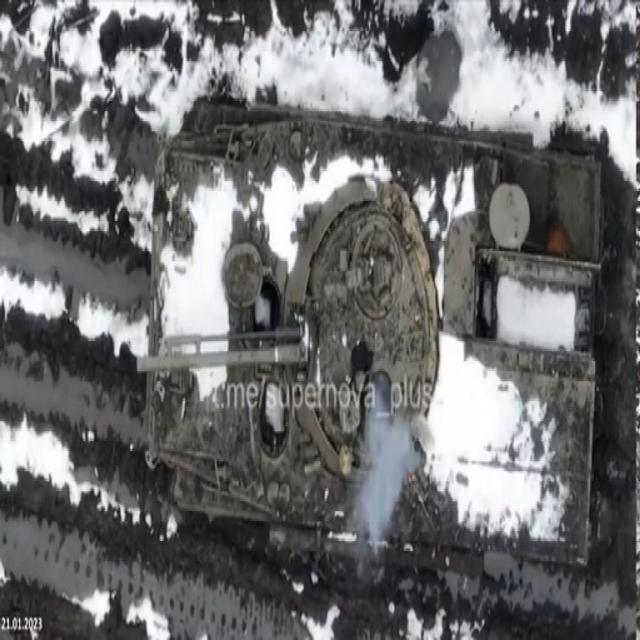APC-IFV: (135, 80, 595, 576)
